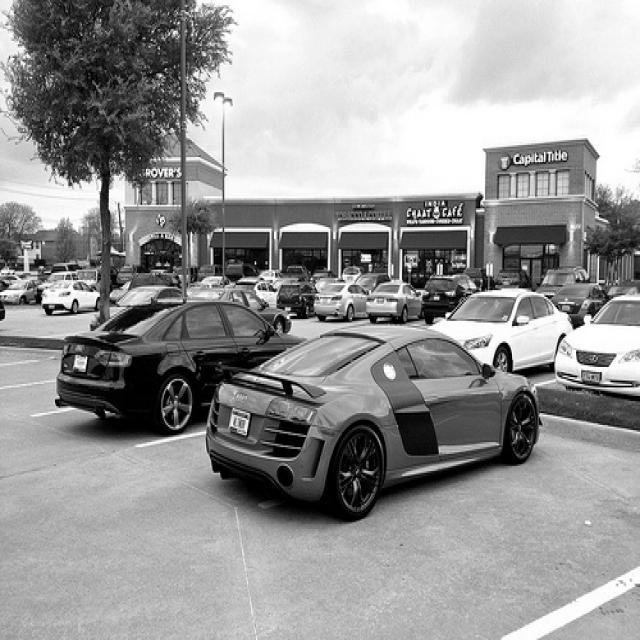car: (205, 322, 541, 520), (54, 298, 306, 434), (425, 286, 573, 374), (553, 294, 639, 398), (549, 282, 607, 326), (365, 282, 421, 322), (41, 278, 100, 314)
plat_license: (226, 403, 254, 440), (576, 368, 604, 386), (71, 352, 89, 377)
